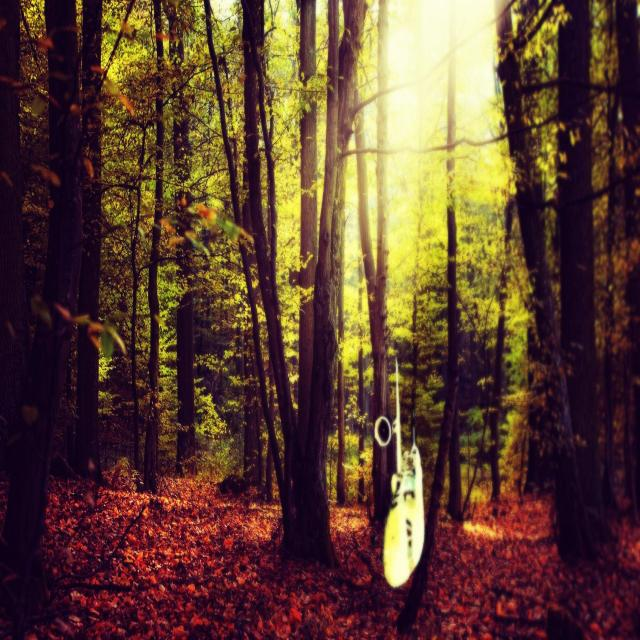airplane: (374, 355, 425, 589)
